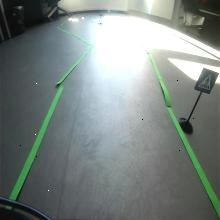crosswalk: (194, 66, 218, 94)
